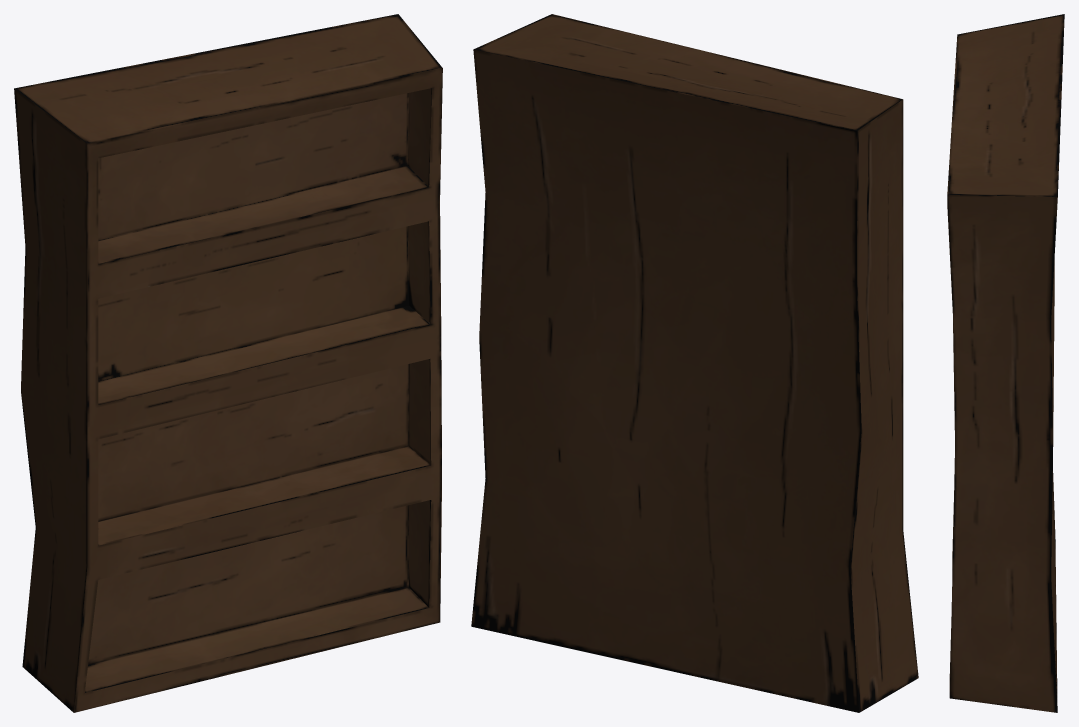
Rendered from BookSelf.fbx.
The picture shows the model from 3 angles, left to right: view 1: azimuth 30°, elevation 25°; view 2: azimuth 150°, elevation 25°; view 3: azimuth 270°, elevation 25°; orthographic projection. The views are drawn at different scales.
Parts seen in each view (by area): view 1: Bookshelf; view 2: Bookshelf; view 3: Bookshelf.
Part boxes in pixels (<box>): Bookshelf: <box>14,14,442,712</box>; Bookshelf: <box>471,14,918,712</box>; Bookshelf: <box>947,14,1064,712</box>.
Size of the model in its own units: 130 by 190 by 38.1.
Materials: 1 (1 with a texture image).
